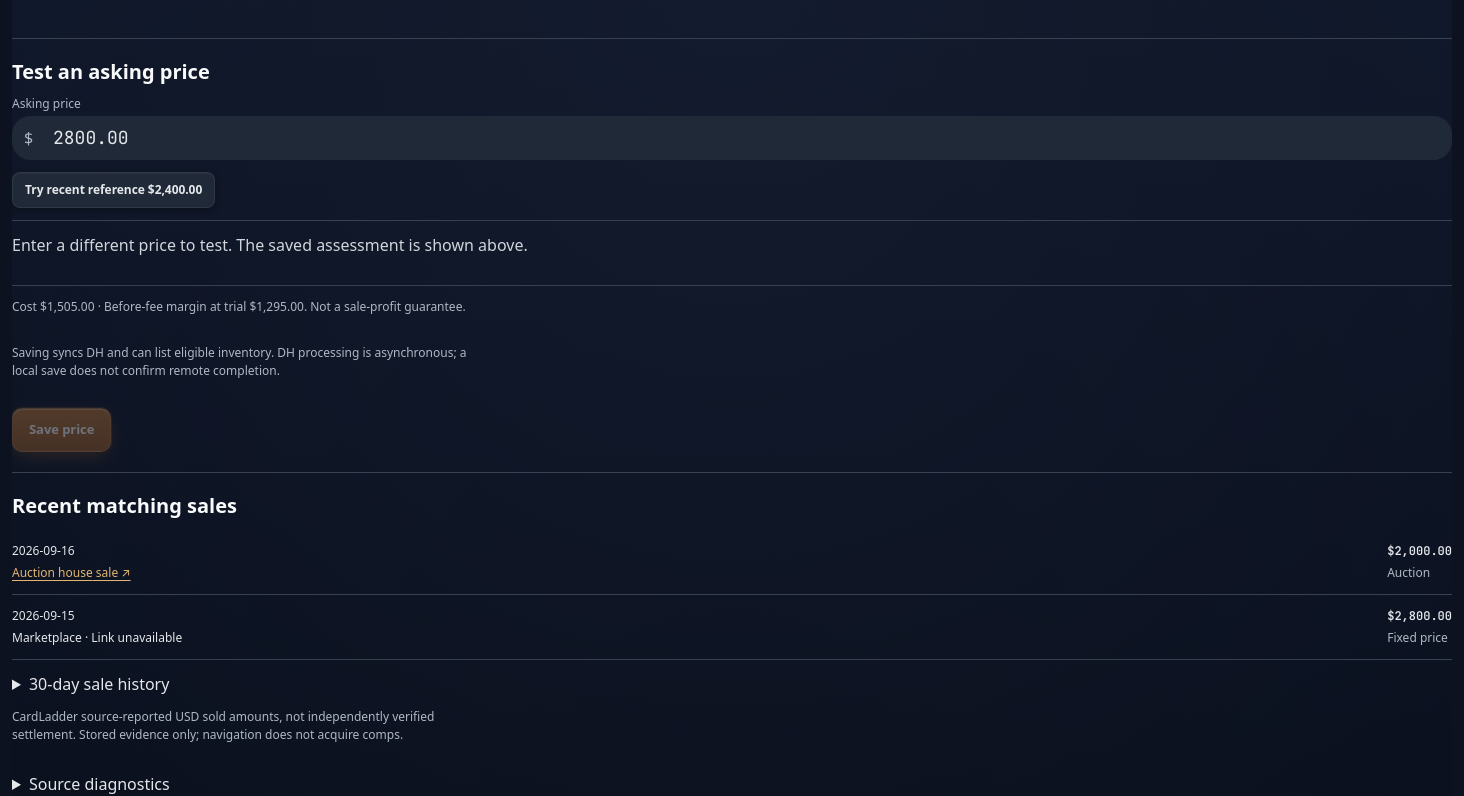
Test: keeps physical readiness in diagnostics rather than ahead of the price assessment
(page scrolled)
Expected: the text "Ready to pack" is not shown
What coordinates should you click on to do the following:
click the heading "Source diagnostics"
I would click on:
 (99, 784)
Its box is [29,773,170,795].
(page scrolled)
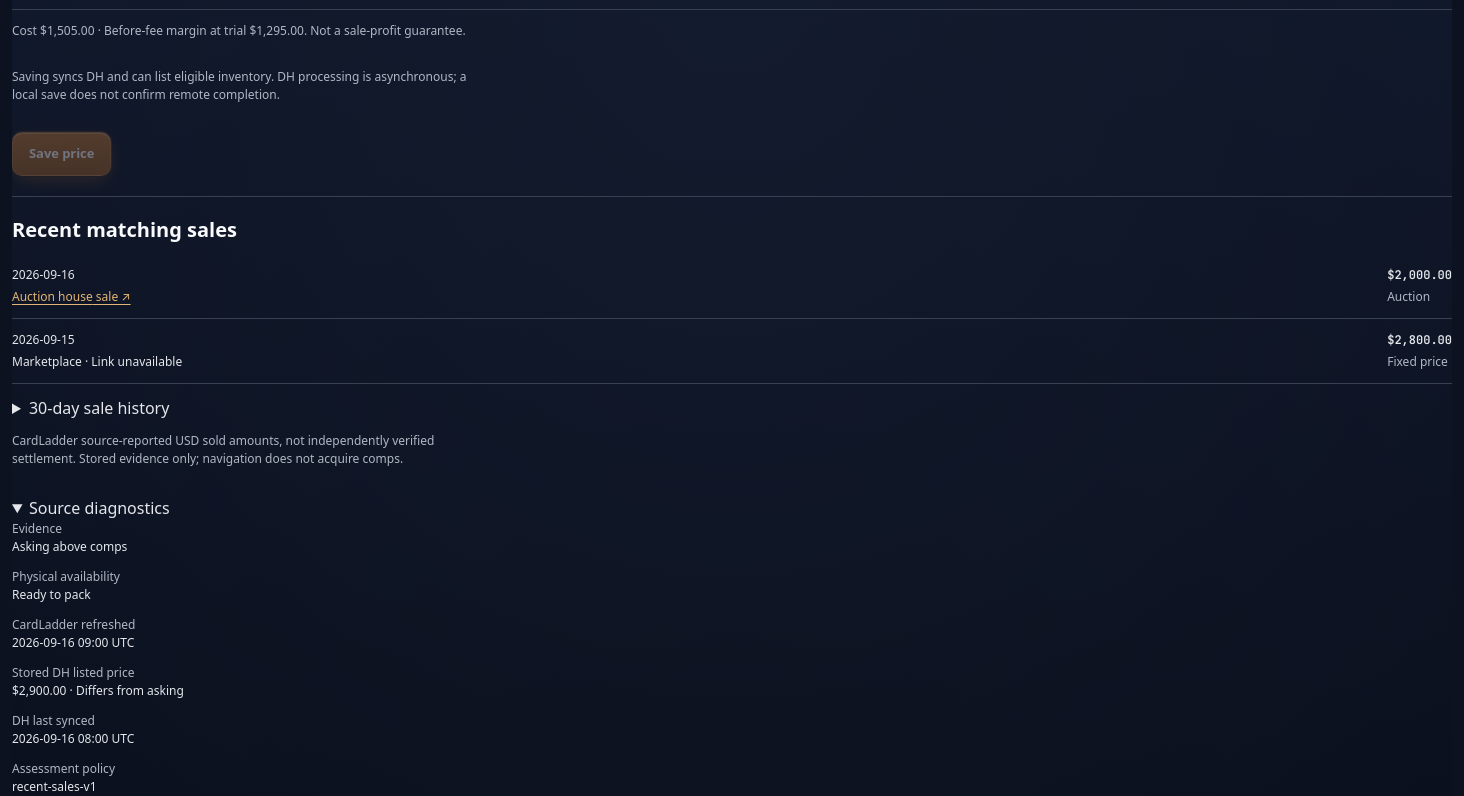
Expected: the text "Ready to pack" is shown, [12,586,91,603]
